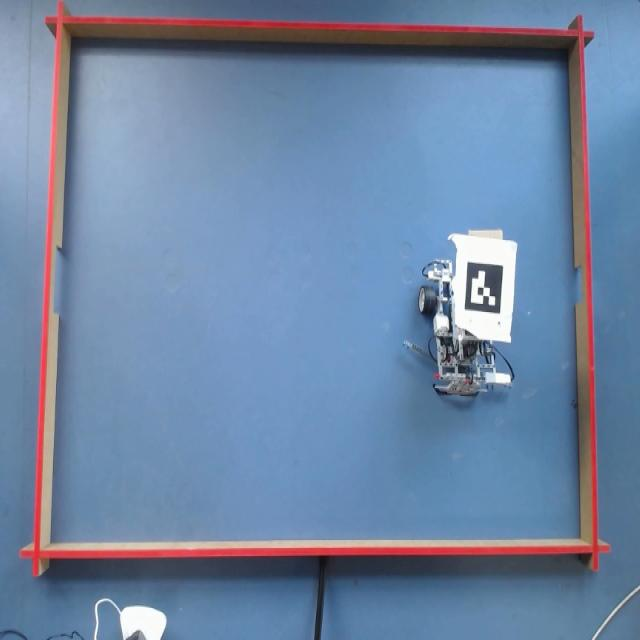ev3: (421, 231, 519, 399)
